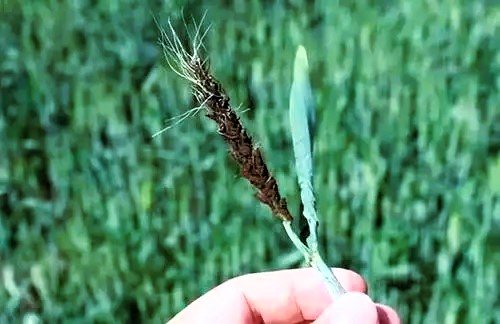Wheat Loose Smut: (192, 69, 283, 198)
